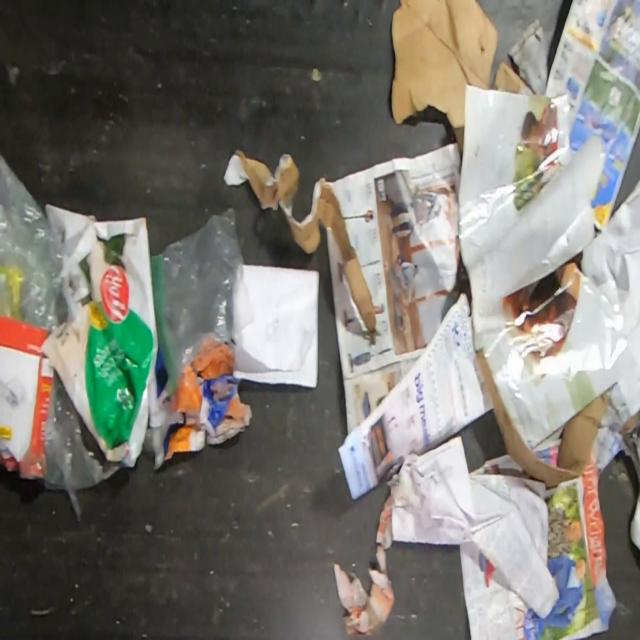cardboard: (222, 147, 378, 335), (390, 0, 536, 164), (475, 346, 609, 489), (0, 315, 54, 480)
soft_plastic: (41, 202, 158, 468), (150, 205, 255, 397), (0, 152, 69, 335), (38, 370, 122, 520)
